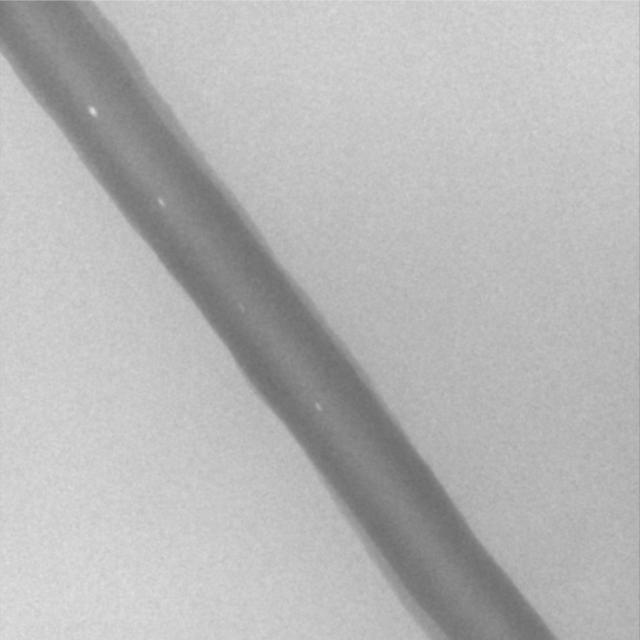air hole: (86, 104, 98, 118), (155, 196, 165, 208), (312, 400, 322, 412)
